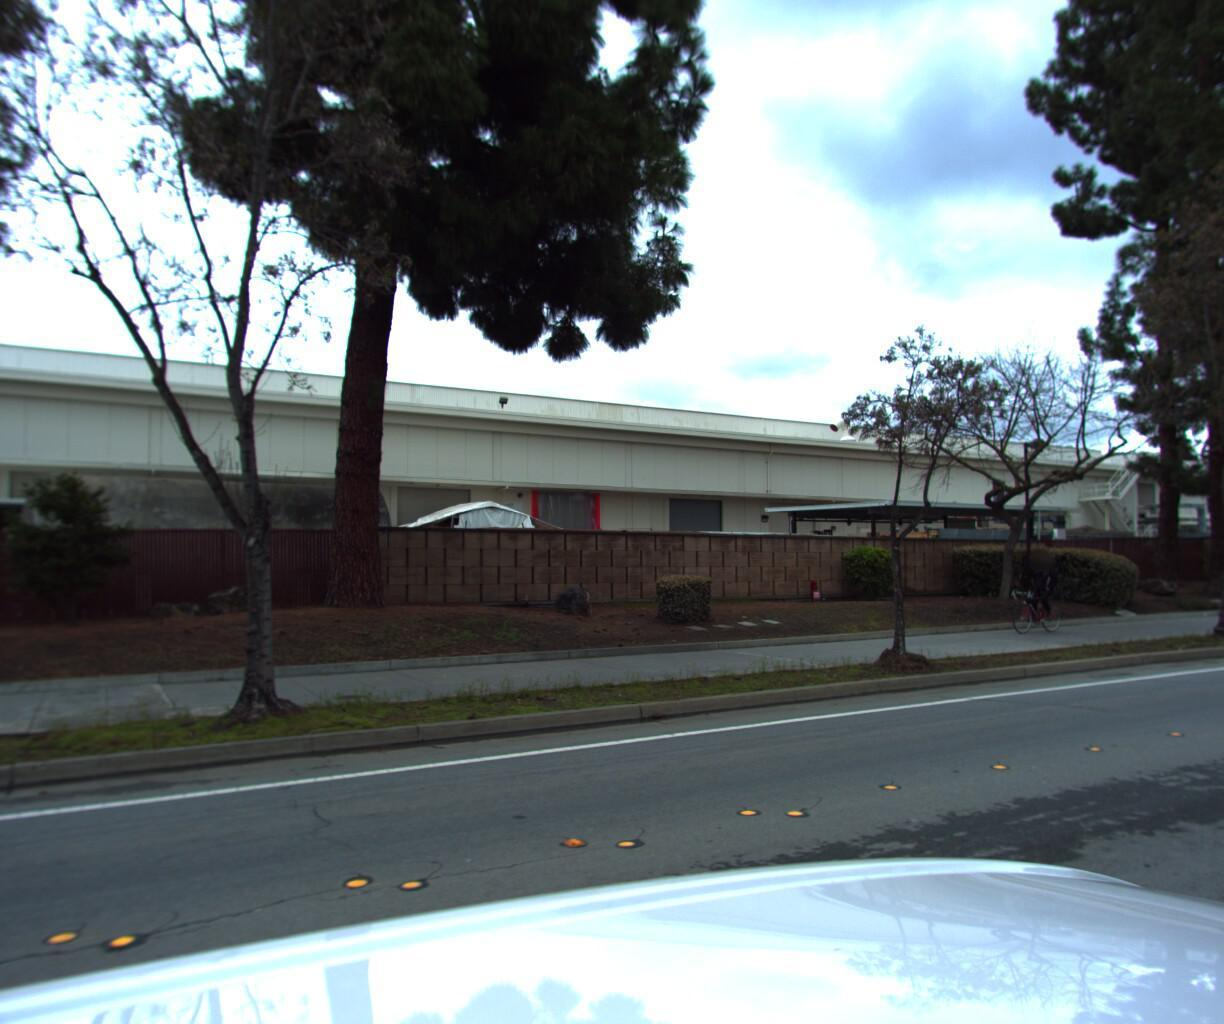bicycle: (995, 551, 1076, 636)
